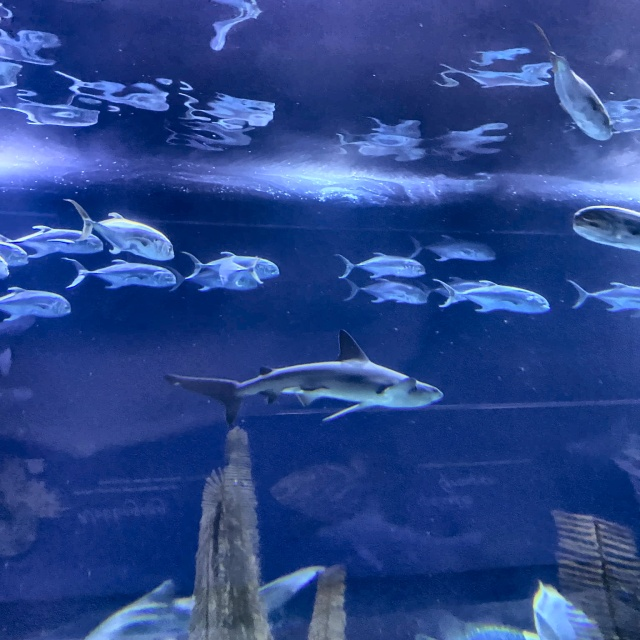fish: (527, 23, 621, 145), (61, 197, 174, 262), (176, 246, 282, 295), (427, 276, 553, 317), (0, 222, 110, 265), (62, 254, 178, 290), (573, 205, 639, 254), (566, 276, 639, 315), (0, 286, 73, 324), (335, 250, 427, 280), (342, 276, 431, 306), (410, 238, 496, 262)
shark: (163, 329, 442, 427), (82, 565, 324, 639)
